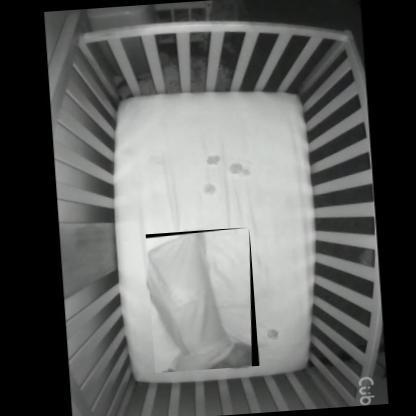baby: (145, 233, 251, 373)
